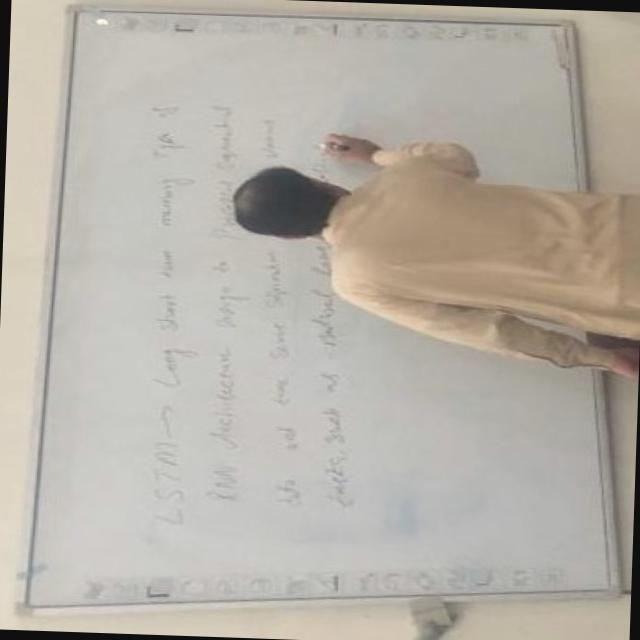Instructor: (208, 158, 640, 319)
White-board: (34, 5, 618, 606)
